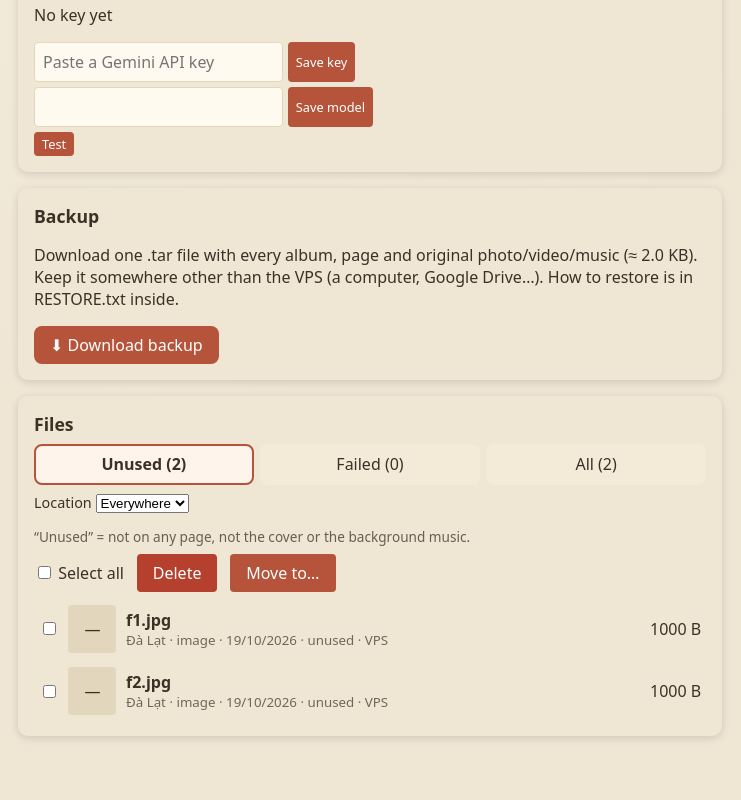
Test: move selected files; a refusal is shown verbatim
(page scrolled)
Click the checkbox labelled "Select all" at (44, 573), box 38,566 -> 51,579
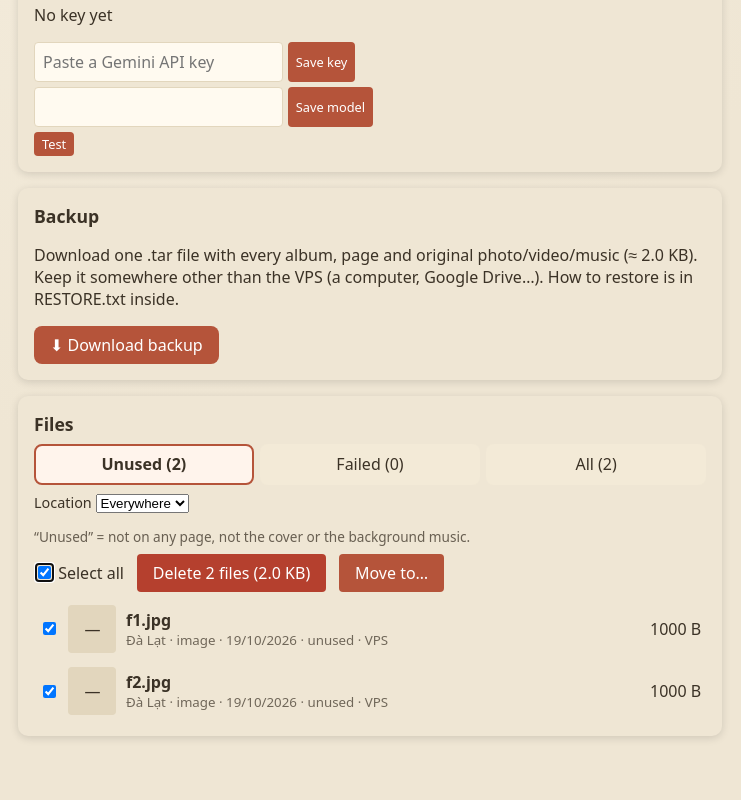
Click the button "Move to…" at (392, 573), box 339,554 -> 444,592
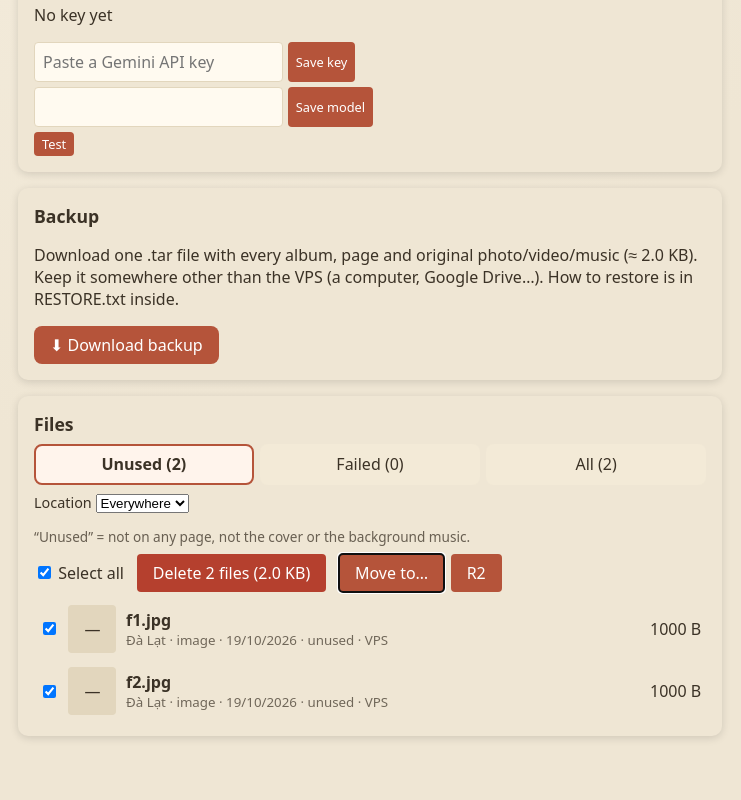
Click the menu item "R2" at (476, 573), box 451,554 -> 502,592
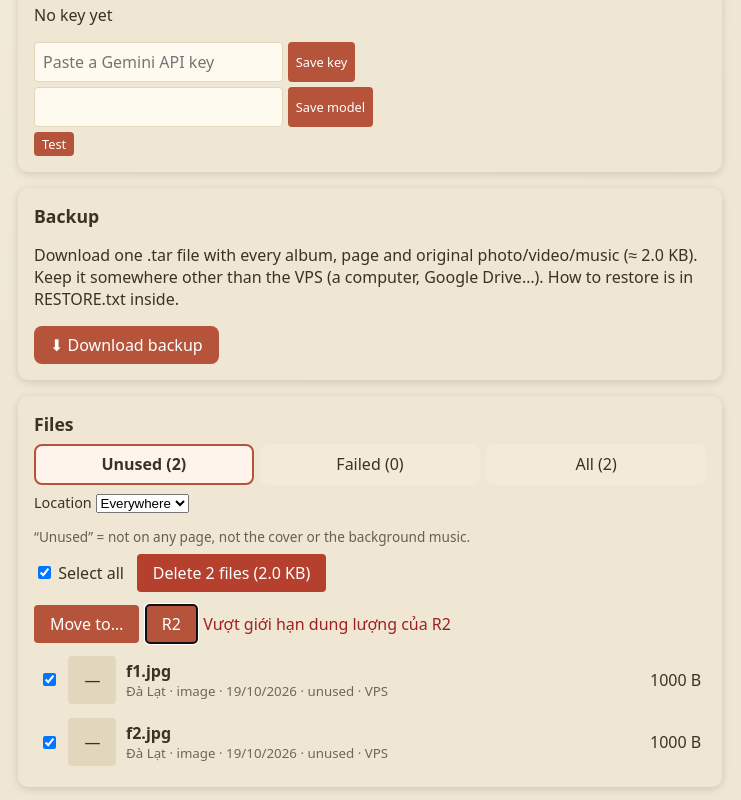
Expected: the text "Vượt giới hạn dung lượng của R2" is shown, 203,613 -> 451,635
